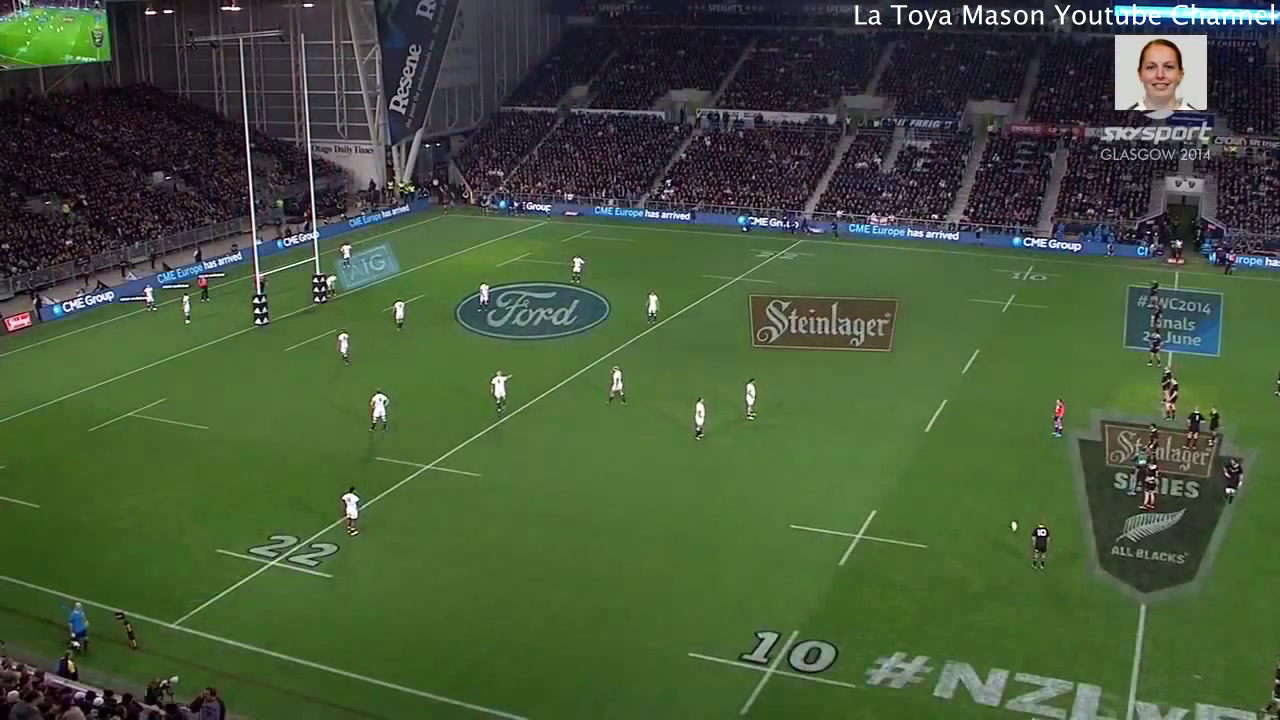10_metre: (234, 38, 333, 338), (684, 614, 861, 720), (781, 502, 939, 582), (963, 290, 1052, 321), (986, 259, 1068, 286)
ball: (1009, 513, 1019, 534)
player: (1026, 515, 1056, 583), (484, 366, 516, 426), (1216, 454, 1244, 507), (363, 386, 392, 435), (602, 362, 631, 410), (338, 483, 362, 539), (1123, 444, 1145, 498), (1261, 658, 1280, 720), (689, 392, 711, 444), (1183, 403, 1205, 453), (1141, 460, 1160, 516), (334, 326, 357, 370), (741, 374, 760, 423), (472, 278, 495, 316), (1145, 326, 1164, 371), (1049, 397, 1068, 442), (1163, 373, 1179, 424), (1203, 404, 1221, 449), (387, 296, 409, 332), (643, 289, 663, 328), (566, 253, 586, 290), (1154, 359, 1169, 408), (1146, 420, 1164, 459), (142, 281, 163, 314), (194, 273, 214, 306), (178, 291, 196, 326), (336, 240, 355, 271), (1145, 278, 1161, 308), (1148, 300, 1161, 330), (323, 272, 338, 297)
